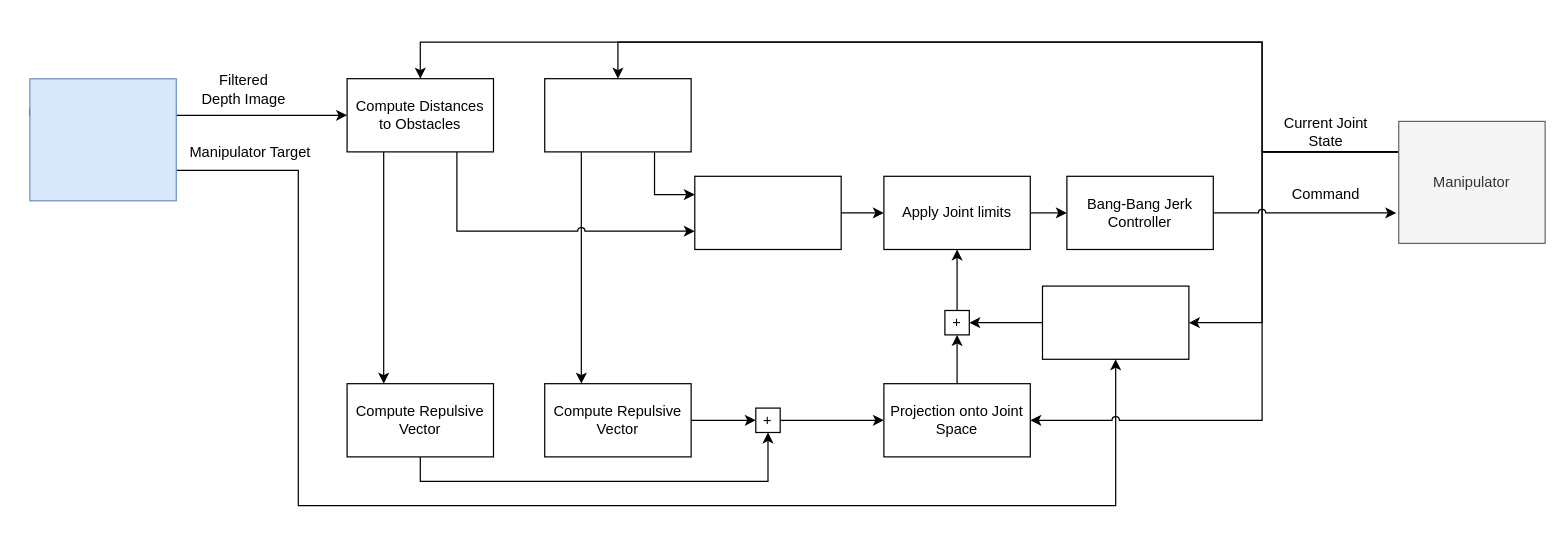
Some shapes in this 1566 by 537 pixel diagram are drawn without their labels. Each missing label, with the box of its shape:
Compute Distances to Singularities: (544, 77, 691, 152)
Compute Joint Velocity Limits: (694, 175, 841, 249)
PID: (1041, 285, 1189, 359)
ROS Network: (29, 78, 176, 201)
